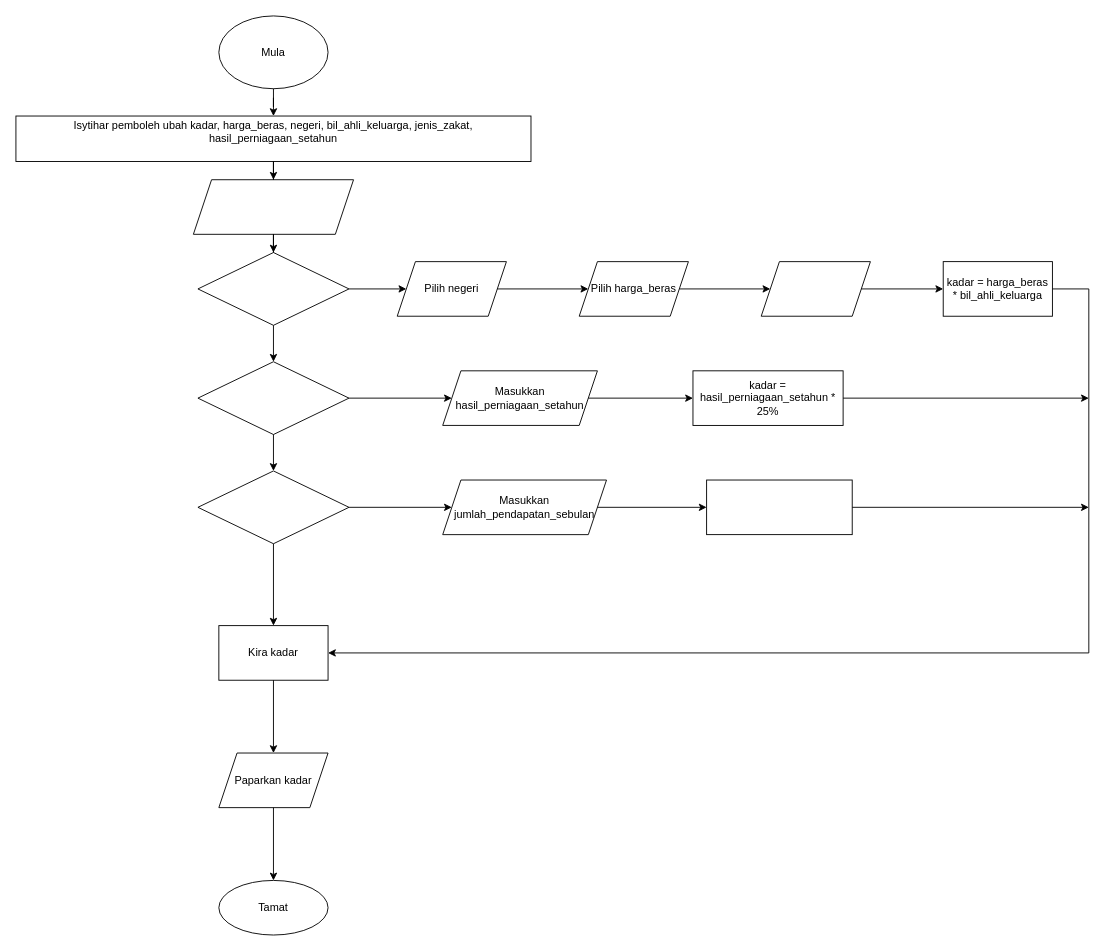
This 1112x951 diagram has some shape labels left out. Each missing label, with the centre of its shape:
"jenis zakat == fitrah?" goes at point 273,288.
"jenis zakat == pendapatan?" goes at point 273,507.
"jenis zakat == perniagaan?" goes at point 273,398.
"kadar = jumlah_pendapatan_sebulan" goes at point 779,507.
"Masukkan bil_ahli_keluarga" goes at point 815,288.
"Pilih jenis zakat" goes at point 273,206.
